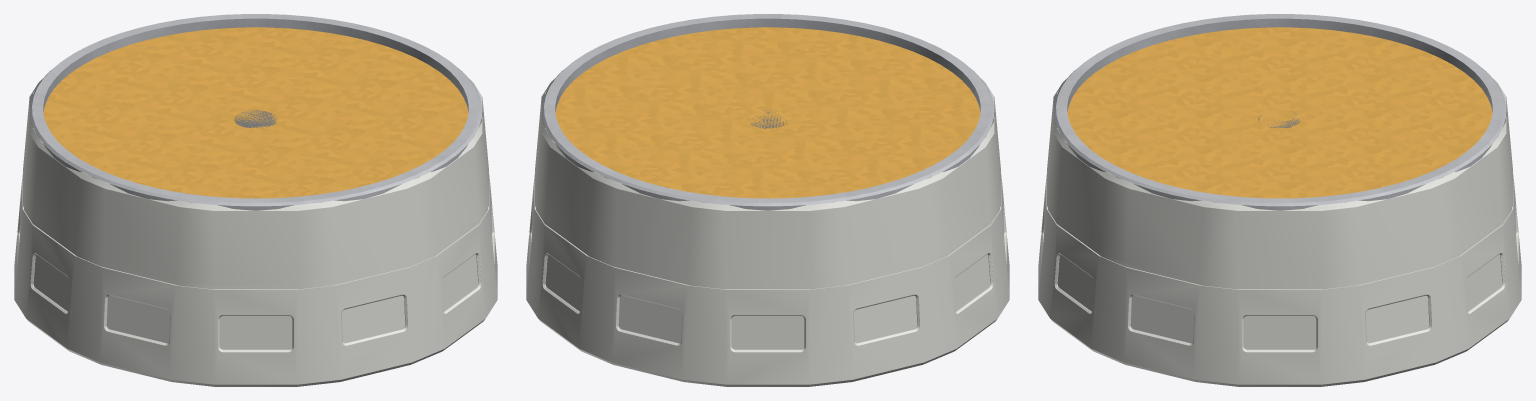
Rendered from ax_prop_20_thrust_structure_l_x4.glb.
The picture shows the model from 3 angles, left to right: view 1: azimuth 30°, elevation 25°; view 2: azimuth 150°, elevation 25°; view 3: azimuth 270°, elevation 25°; orthographic projection.
Parts seen in each view (by area): view 1: skirt, mli_floor, interface_ring, thrust_beams; view 2: skirt, mli_floor, interface_ring; view 3: skirt, mli_floor, interface_ring.
Part boxes in pixels (x1,y1,x2,y2): skirt: (14,78,497,386); mli_floor: (43,27,468,198); interface_ring: (29,14,482,210); thrust_beams: (234,110,277,128); skirt: (526,78,1009,386); mli_floor: (555,27,980,198); interface_ring: (541,14,994,210); skirt: (1038,78,1521,386); mli_floor: (1067,27,1492,198); interface_ring: (1053,14,1506,210).
Size of the model in its own units: 4 by 1.62 by 4.
4 materials, 3 textured.
